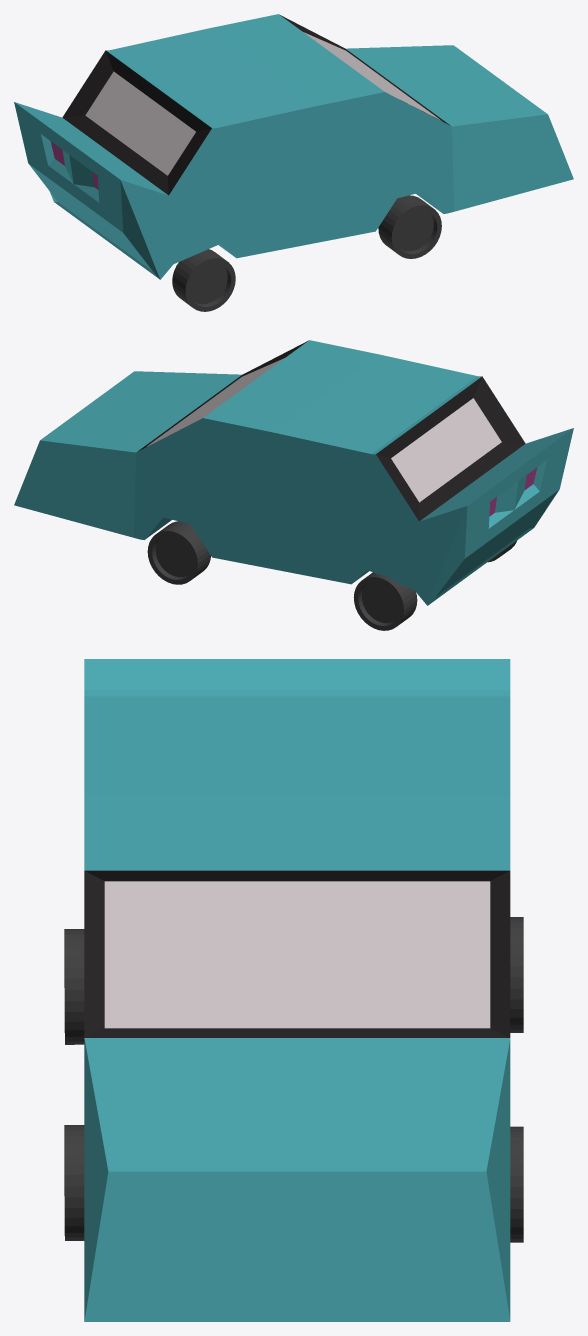
File: car.glb
3 renders of one model, top to bottom at view 1: azimuth 30°, elevation 25°; view 2: azimuth 150°, elevation 25°; view 3: azimuth 270°, elevation 25°, orthographic. The views are drawn at different scales.
Visible parts, largest first — view 1: Cylinder.001; view 2: Cylinder.001; view 3: Cylinder.001.
Boxes of the visible parts, bbox=[...] form: Cylinder.001: bbox=[14, 14, 573, 311]; Cylinder.001: bbox=[14, 340, 573, 630]; Cylinder.001: bbox=[64, 659, 523, 1321].
Bounding box in the file's own units: 3.58 × 1.34 × 1.57.
